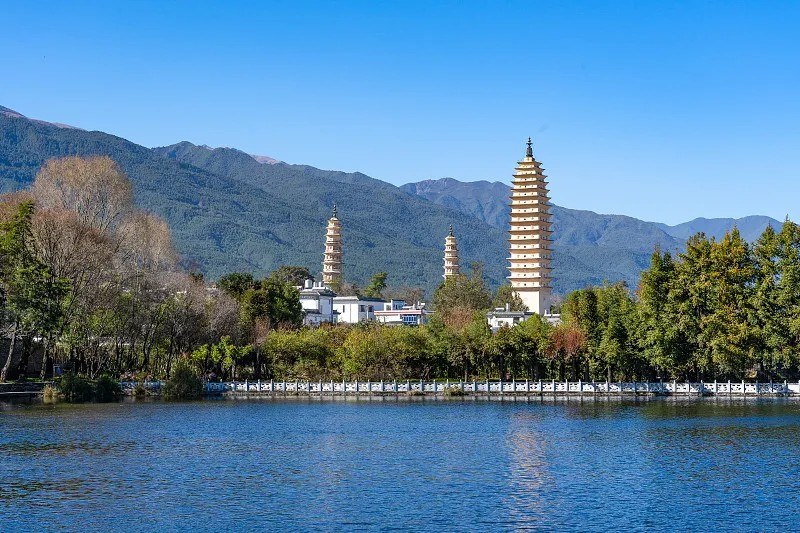ThreePagoda: (507, 135, 554, 314)
